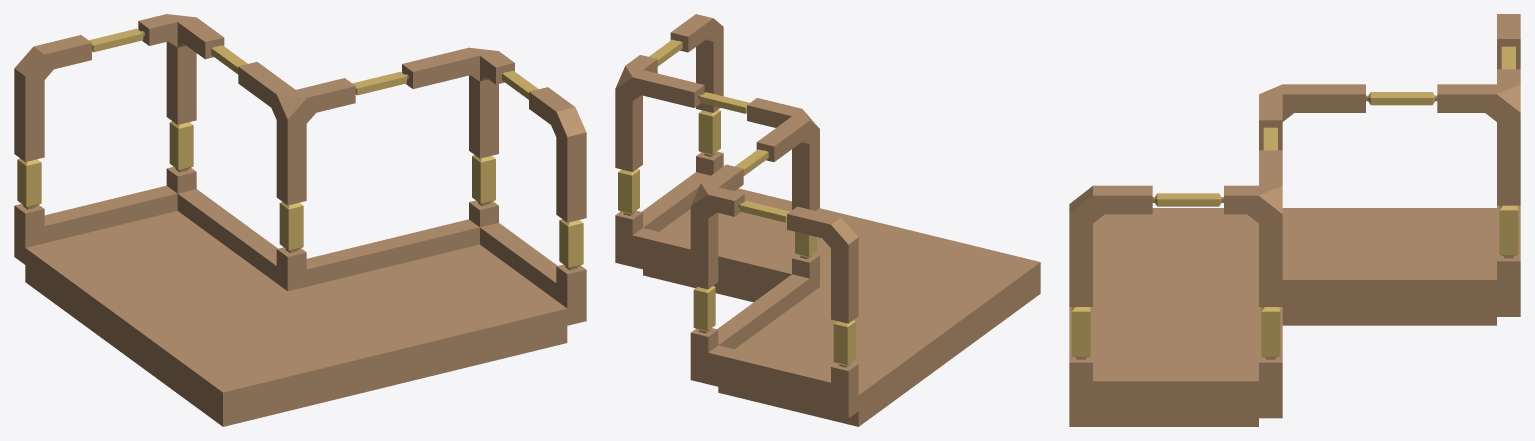
Rendered from balcon.fbx.
The picture shows the model from 3 angles, left to right: view 1: azimuth 30°, elevation 25°; view 2: azimuth 150°, elevation 25°; view 3: azimuth 270°, elevation 25°; orthographic projection. The views are drawn at different scales.
Parts seen in each view (by area): view 1: balcon; view 2: balcon; view 3: balcon.
Boxes of the visible parts, left/top/right/bottom form: balcon: left=14, top=14, right=586, bottom=426; balcon: left=615, top=14, right=1040, bottom=426; balcon: left=1069, top=14, right=1520, bottom=426.
Size of the model in its own units: 0.1813 by 0.1064 by 0.1804.
